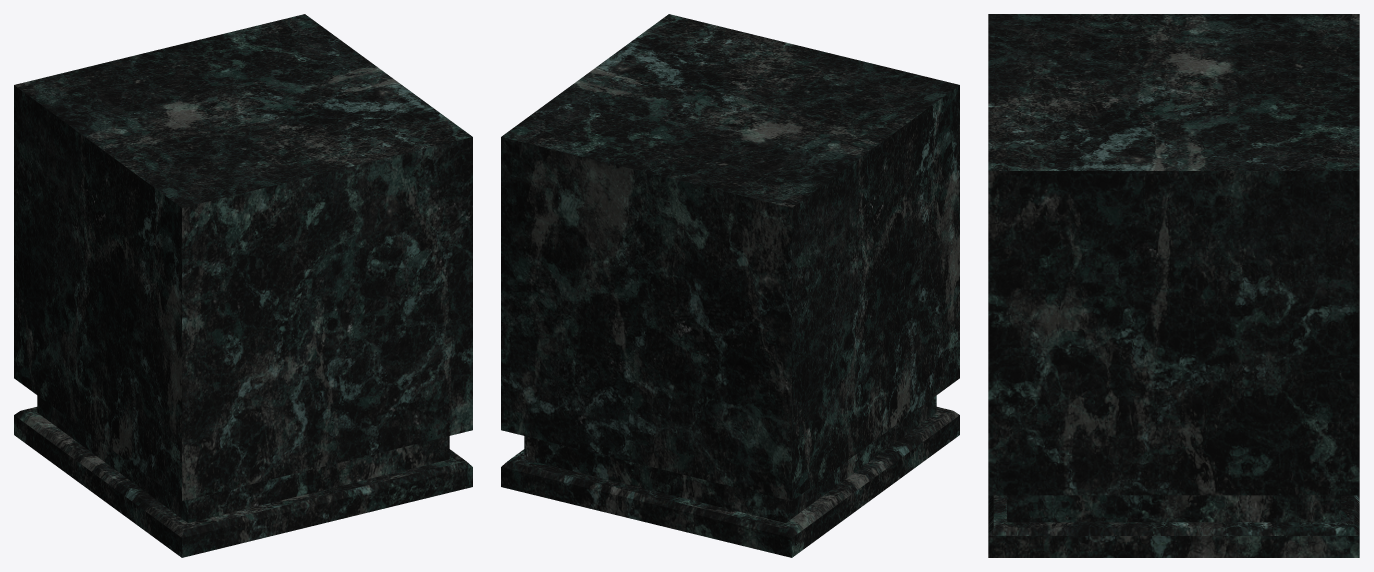
Rendered from DisplayTable.fbx.
3 renders of one model, left to right at view 1: azimuth 30°, elevation 25°; view 2: azimuth 150°, elevation 25°; view 3: azimuth 270°, elevation 25°, orthographic. The views are drawn at different scales.
Parts seen in each view (by area): view 1: Display Table; view 2: Display Table; view 3: Display Table.
Boxes of the visible parts, x1,y1,x2,y2 form: Display Table: (14,14,472,557); Display Table: (501,14,959,557); Display Table: (988,14,1359,557).
Bounding box in the file's own units: 359 × 413 × 359.
